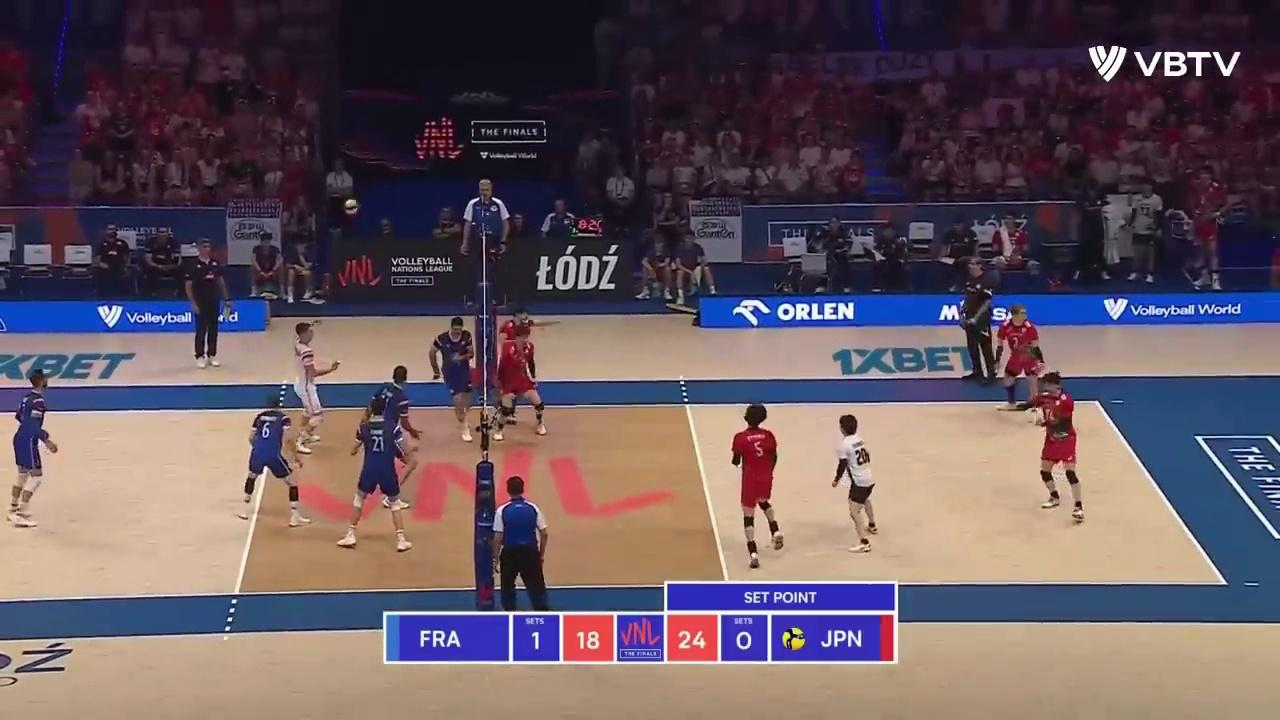ball: (342, 198, 358, 213)
